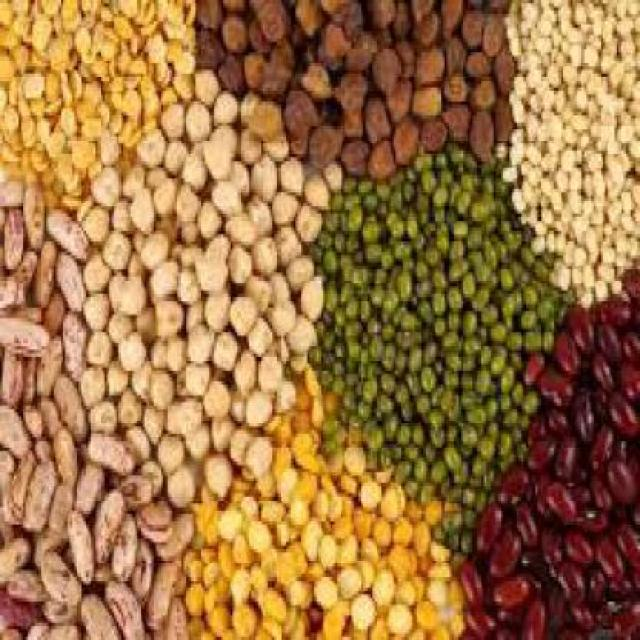BIODEGRADABLE: (1, 0, 638, 638), (2, 67, 344, 636), (314, 143, 572, 552), (188, 357, 470, 637), (463, 261, 639, 637), (195, 0, 516, 175), (498, 0, 638, 303), (3, 0, 200, 203), (344, 28, 456, 157), (233, 168, 324, 310), (582, 314, 638, 532), (321, 553, 465, 636), (312, 493, 402, 616), (172, 559, 314, 636), (405, 382, 510, 486), (188, 514, 278, 612), (168, 402, 245, 507), (454, 11, 512, 143), (328, 181, 389, 297), (414, 196, 498, 276), (268, 468, 323, 588), (221, 309, 282, 416), (396, 333, 442, 469), (274, 396, 328, 506), (177, 161, 240, 248), (463, 284, 528, 367), (195, 223, 251, 319), (182, 10, 289, 59), (558, 510, 610, 605), (516, 126, 579, 197), (267, 42, 356, 88), (568, 192, 630, 258), (582, 35, 626, 122), (192, 98, 234, 164), (88, 430, 140, 482), (615, 501, 639, 612), (568, 144, 612, 202), (69, 504, 100, 584), (147, 560, 184, 626), (50, 203, 96, 255), (30, 452, 61, 528), (107, 578, 147, 636), (556, 74, 598, 126), (324, 287, 351, 367), (84, 588, 128, 637), (2, 311, 52, 354), (54, 375, 91, 433), (98, 486, 128, 556), (493, 570, 542, 612), (291, 84, 323, 147), (9, 447, 37, 518), (540, 360, 582, 406), (459, 553, 493, 609), (494, 518, 528, 573), (2, 448, 21, 546), (560, 301, 598, 350), (503, 464, 545, 508), (607, 218, 638, 276), (65, 307, 90, 378), (160, 507, 194, 559), (2, 398, 35, 451), (468, 598, 514, 636), (60, 248, 91, 304), (538, 479, 582, 518), (47, 548, 84, 594), (133, 532, 156, 606), (552, 552, 586, 602), (366, 91, 396, 147), (517, 588, 551, 637), (56, 420, 81, 486), (554, 427, 584, 482), (77, 458, 108, 511), (36, 234, 58, 308), (477, 497, 505, 555), (100, 223, 137, 266), (544, 18, 576, 67), (156, 591, 190, 637), (116, 507, 138, 578), (156, 290, 187, 339), (202, 451, 235, 497), (556, 328, 589, 374), (165, 461, 198, 504), (314, 116, 344, 162), (36, 525, 72, 563), (42, 332, 66, 388), (133, 182, 161, 230), (594, 535, 628, 574), (119, 385, 144, 437), (2, 534, 30, 580), (86, 244, 114, 290), (517, 500, 545, 546), (547, 581, 570, 636), (531, 430, 558, 476), (140, 118, 168, 162), (396, 111, 421, 160), (603, 0, 628, 49), (161, 427, 193, 465), (368, 567, 400, 605), (79, 364, 110, 402), (2, 349, 26, 398), (271, 46, 295, 94), (142, 228, 172, 266), (47, 283, 70, 332), (2, 592, 35, 626), (259, 91, 283, 137), (91, 396, 123, 430), (518, 347, 550, 381), (580, 252, 612, 286), (378, 46, 402, 91), (28, 182, 46, 241), (123, 420, 154, 454), (593, 318, 624, 352), (121, 269, 148, 308), (345, 133, 372, 172), (9, 567, 46, 595), (119, 476, 156, 504), (38, 528, 70, 560), (414, 80, 444, 114), (142, 458, 167, 497), (196, 63, 221, 102), (340, 556, 365, 595), (86, 200, 114, 234), (95, 162, 123, 196), (582, 567, 610, 601), (189, 95, 214, 133), (124, 325, 148, 364), (84, 290, 111, 324), (140, 515, 174, 542), (145, 224, 172, 258), (352, 592, 379, 626), (592, 350, 616, 388), (223, 52, 245, 91), (112, 304, 137, 338), (210, 602, 235, 636), (389, 372, 414, 406), (373, 140, 398, 174), (529, 413, 556, 444), (139, 301, 161, 339), (152, 259, 176, 293), (51, 490, 72, 528), (26, 353, 42, 402), (154, 372, 177, 406), (8, 217, 23, 269), (163, 101, 188, 132), (572, 598, 596, 630), (424, 115, 451, 143), (165, 396, 190, 426), (2, 270, 24, 304), (110, 354, 132, 388), (318, 536, 340, 570), (92, 329, 116, 360), (158, 176, 182, 207), (185, 147, 209, 178), (126, 164, 149, 196), (144, 497, 174, 521), (114, 193, 135, 227), (186, 580, 208, 612), (112, 269, 130, 308), (23, 399, 45, 430), (182, 186, 204, 217), (552, 405, 579, 430), (47, 595, 79, 616), (149, 399, 168, 433), (368, 417, 386, 451), (3, 179, 28, 203), (158, 210, 179, 238), (151, 336, 172, 364), (98, 553, 116, 584), (361, 371, 379, 402), (148, 165, 170, 189), (19, 304, 44, 325), (308, 514, 323, 548), (21, 245, 42, 269), (45, 395, 63, 423), (284, 465, 302, 493), (172, 336, 188, 367), (189, 549, 205, 580), (251, 49, 267, 80), (219, 574, 235, 604), (308, 598, 323, 630), (56, 618, 81, 637), (133, 224, 152, 248), (380, 385, 395, 412), (191, 612, 207, 637), (38, 433, 56, 455), (209, 577, 223, 605), (436, 287, 450, 315), (360, 291, 374, 318), (401, 392, 416, 416), (33, 615, 49, 637), (349, 290, 363, 315), (377, 367, 395, 385), (131, 252, 146, 273), (76, 437, 89, 461), (2, 622, 24, 636), (83, 196, 95, 221), (377, 332, 389, 357), (18, 279, 32, 298), (370, 311, 384, 329), (3, 207, 9, 241)
